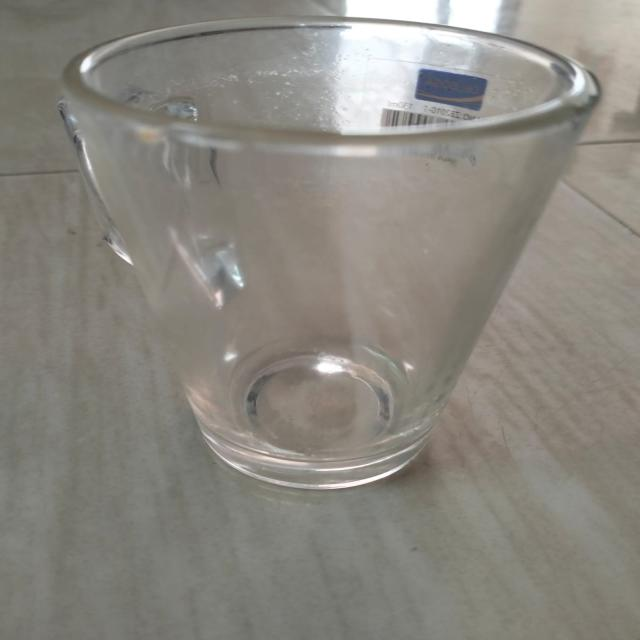glass-VX4N: (62, 22, 603, 498)
